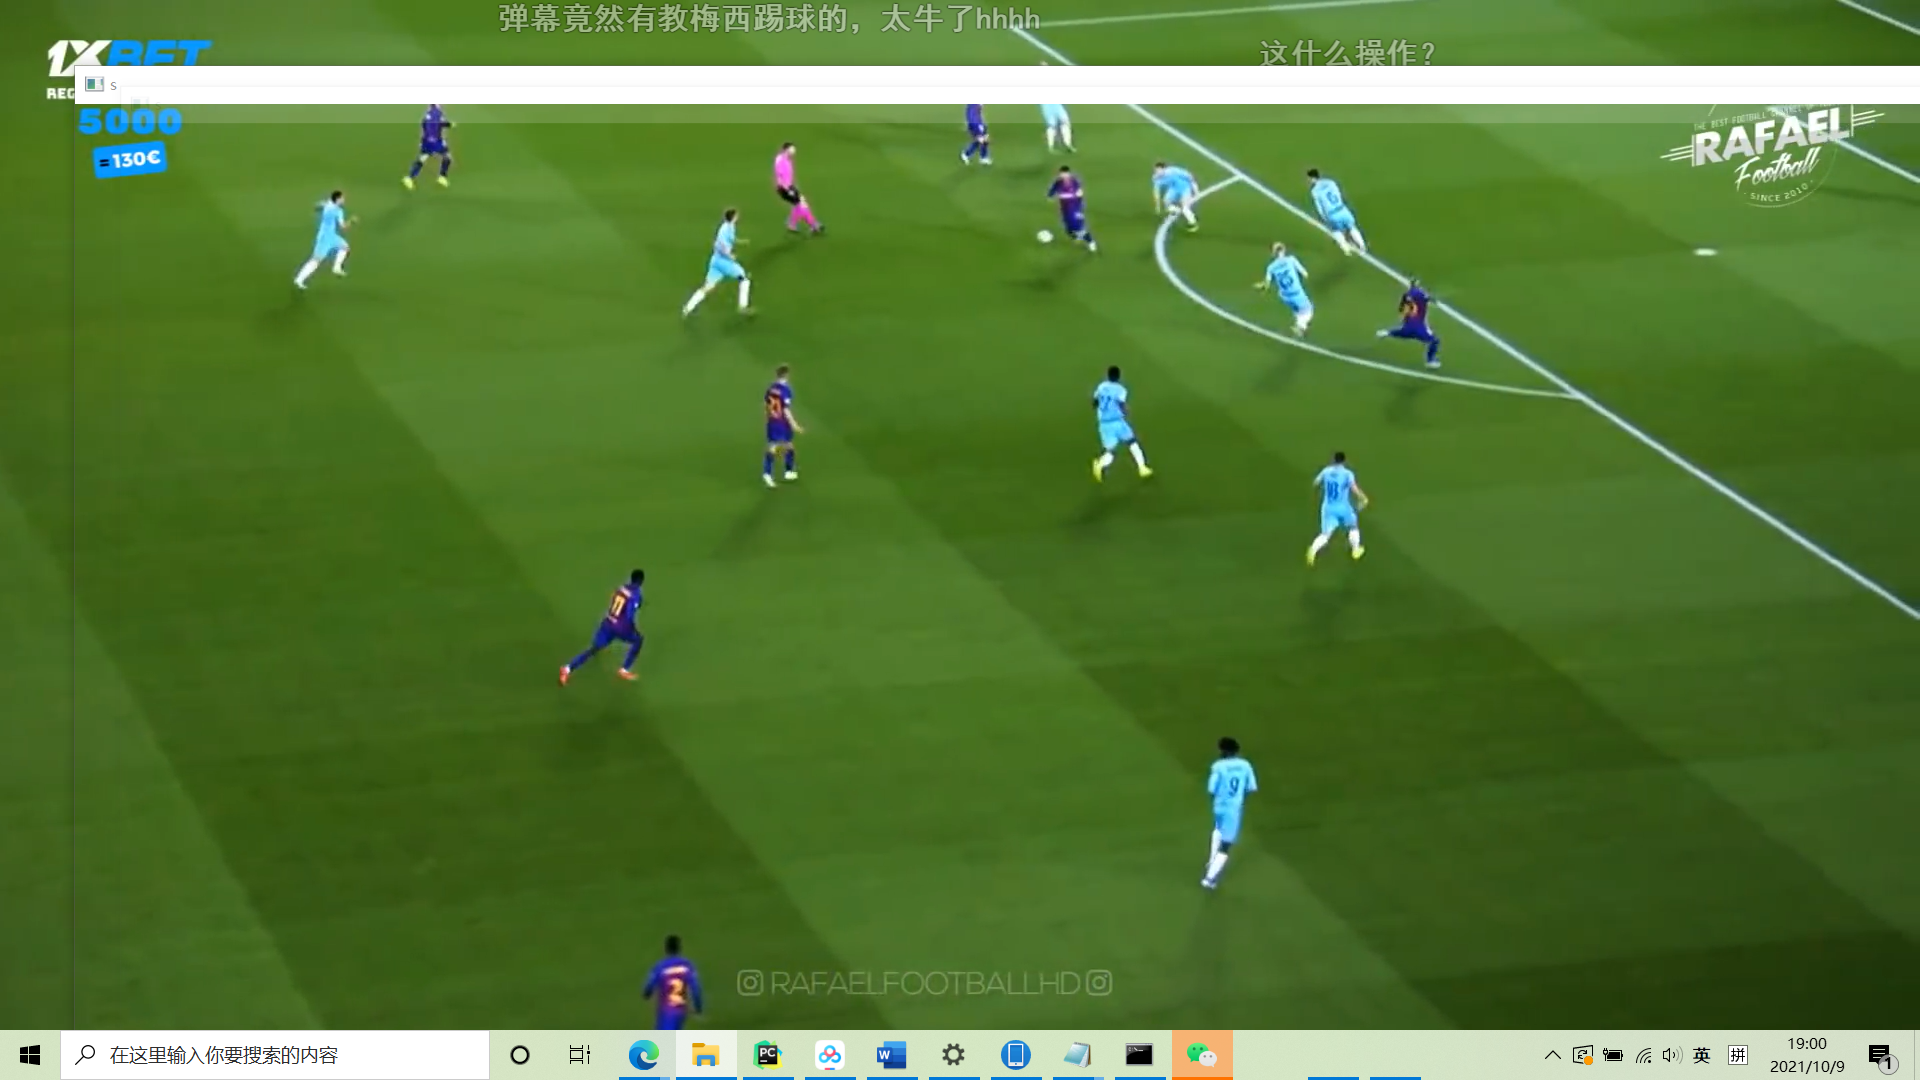ft: (1036, 229, 1054, 245)
